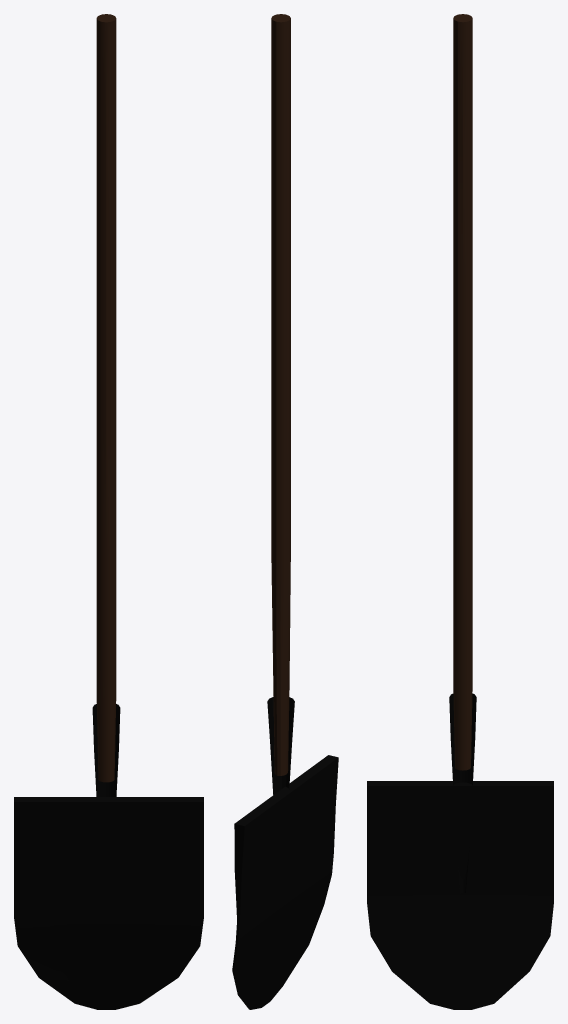
The model's file is shavel.fbx.
3 renders of one model, left to right at view 1: azimuth 90°, elevation 25°; view 2: azimuth 150°, elevation 25°; view 3: azimuth 270°, elevation 25°, orthographic.
Parts seen in each view (by area): view 1: Cylinder.003; view 2: Cylinder.003; view 3: Cylinder.003.
Part boxes in pixels (bbox=[...]): Cylinder.003: bbox=[14, 14, 203, 1009]; Cylinder.003: bbox=[232, 14, 338, 1009]; Cylinder.003: bbox=[367, 14, 553, 1009].
Bounding box in the file's own units: 3.51 × 118 × 20.24.
